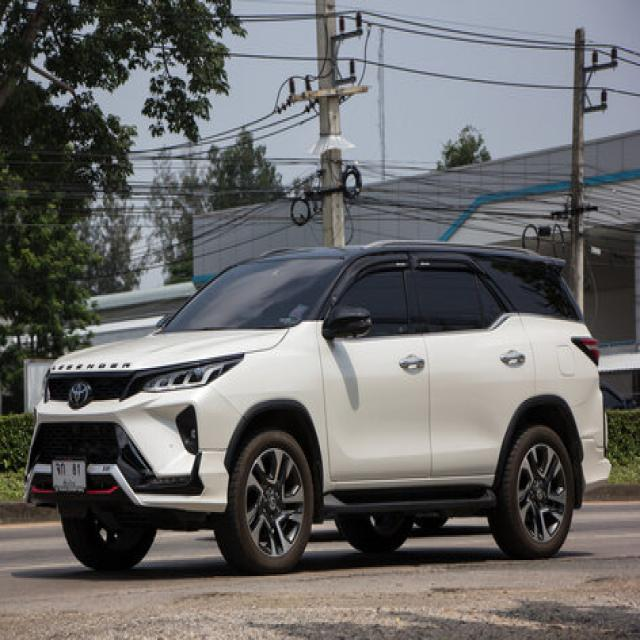light_vehicle: (24, 241, 612, 577)
